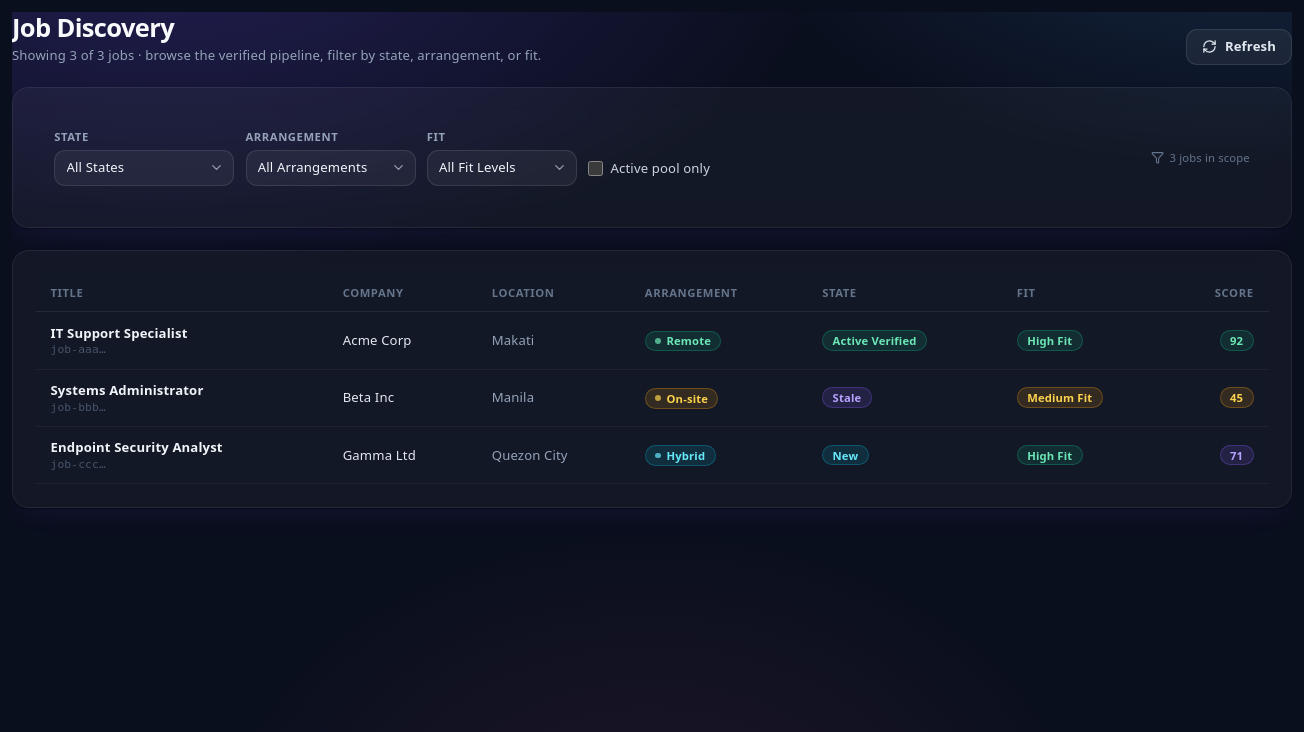
Scenario: Jobs › filters by arrangement and updates the visible set
Select "Remote" in the dropdown labelled "Arrangement" at (330, 168), box x1=246 y1=150 x2=416 y2=186
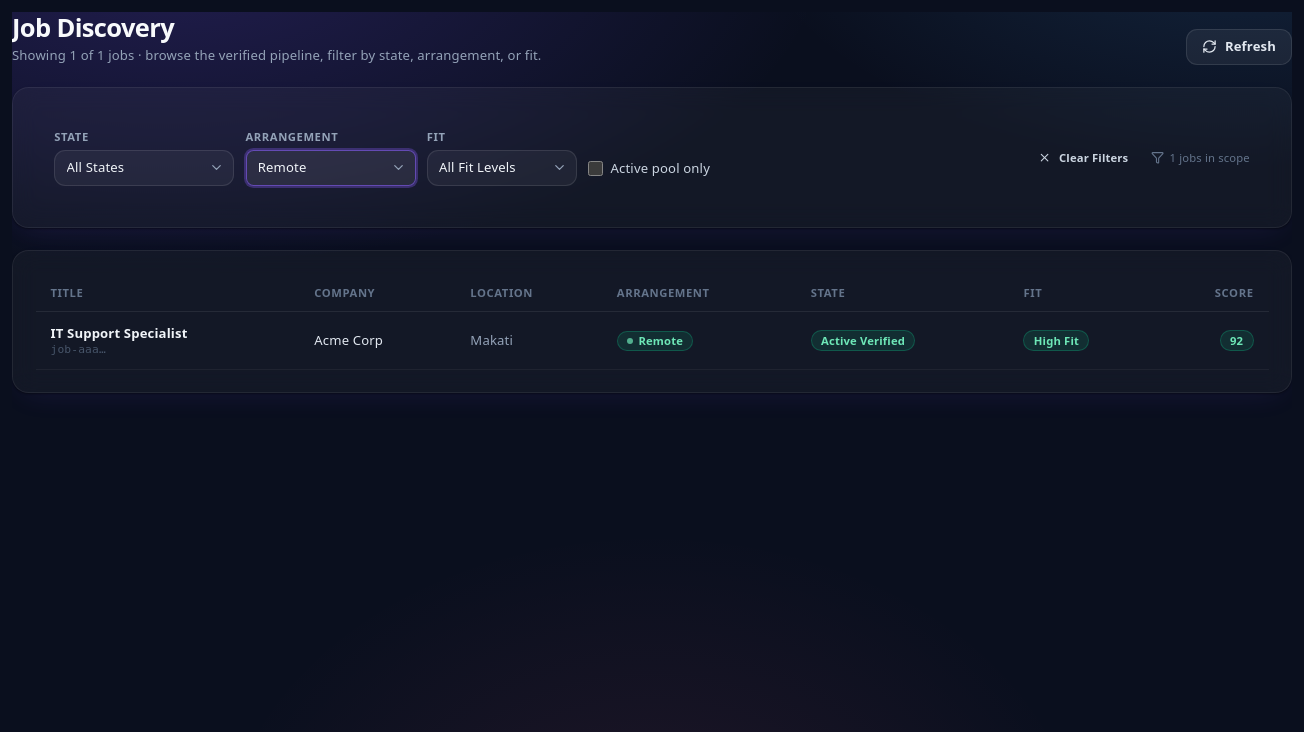
expect the link "IT Support Specialist" is shown: met, box x1=50 y1=324 x2=188 y2=342
expect the text "Showing 1 of 1 jobs" is shown: met, box x1=12 y1=46 x2=134 y2=64
expect the link "Endpoint Security Analyst" is gone: met
